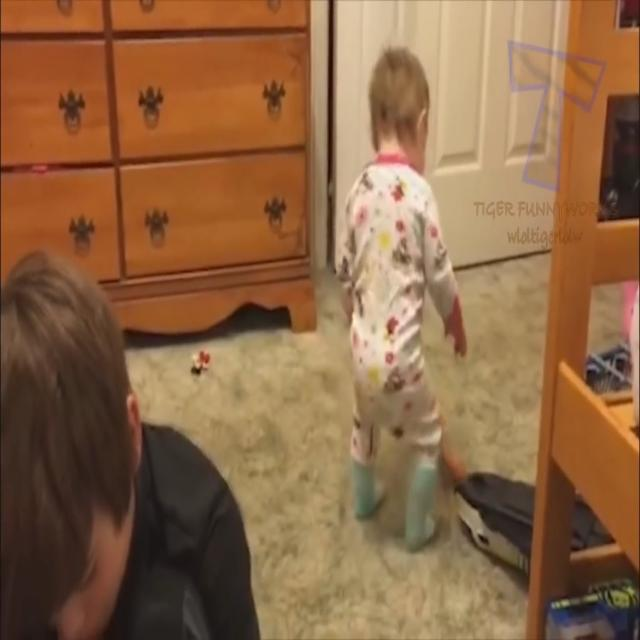safe: (334, 33, 469, 550)
